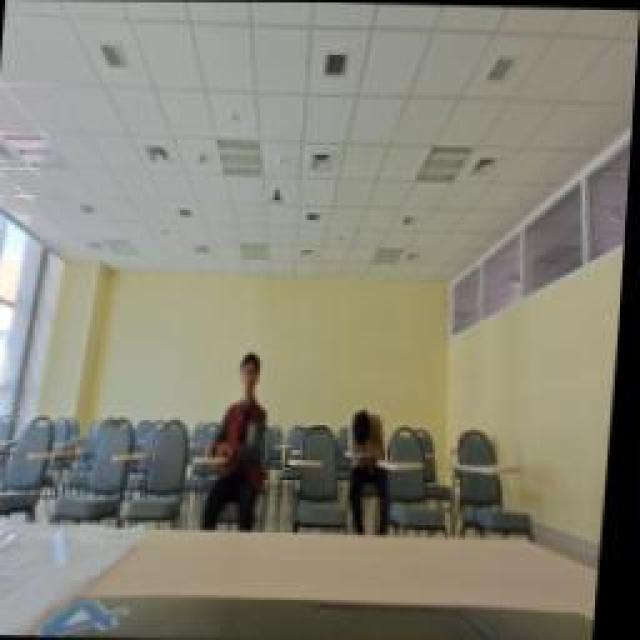sleep: (353, 407, 395, 455)
study: (212, 352, 278, 458)
